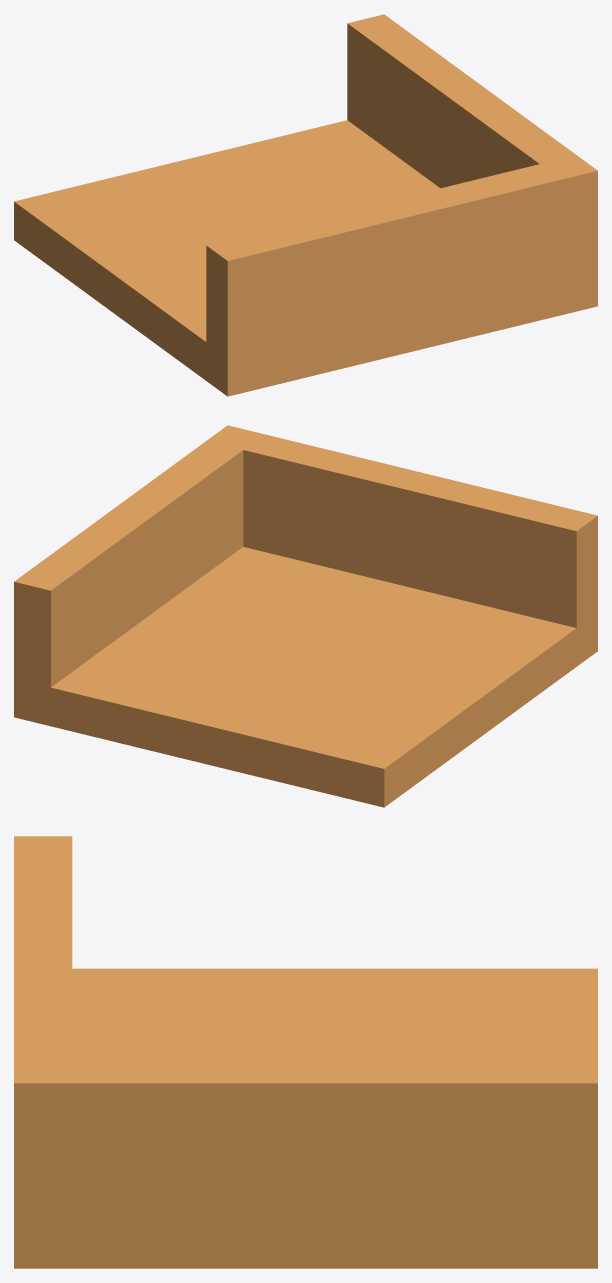
The model's file is YellowRoof_Corner_Small.glb.
3 views of the same model, one above another, from view 1: azimuth 30°, elevation 25°; view 2: azimuth 150°, elevation 25°; view 3: azimuth 270°, elevation 25° (orthographic). The views are drawn at different scales.
Parts seen in each view (by area): view 1: roof_flat_corner_small_yellow; view 2: roof_flat_corner_small_yellow; view 3: roof_flat_corner_small_yellow.
Part boxes in pixels (bbox=[...]): roof_flat_corner_small_yellow: bbox=[14, 14, 597, 396]; roof_flat_corner_small_yellow: bbox=[14, 425, 597, 807]; roof_flat_corner_small_yellow: bbox=[14, 836, 597, 1268].
Size of what is drawn, in the model's own units: 2 by 0.7 by 2.
Materials: 1 (1 with a texture image).
